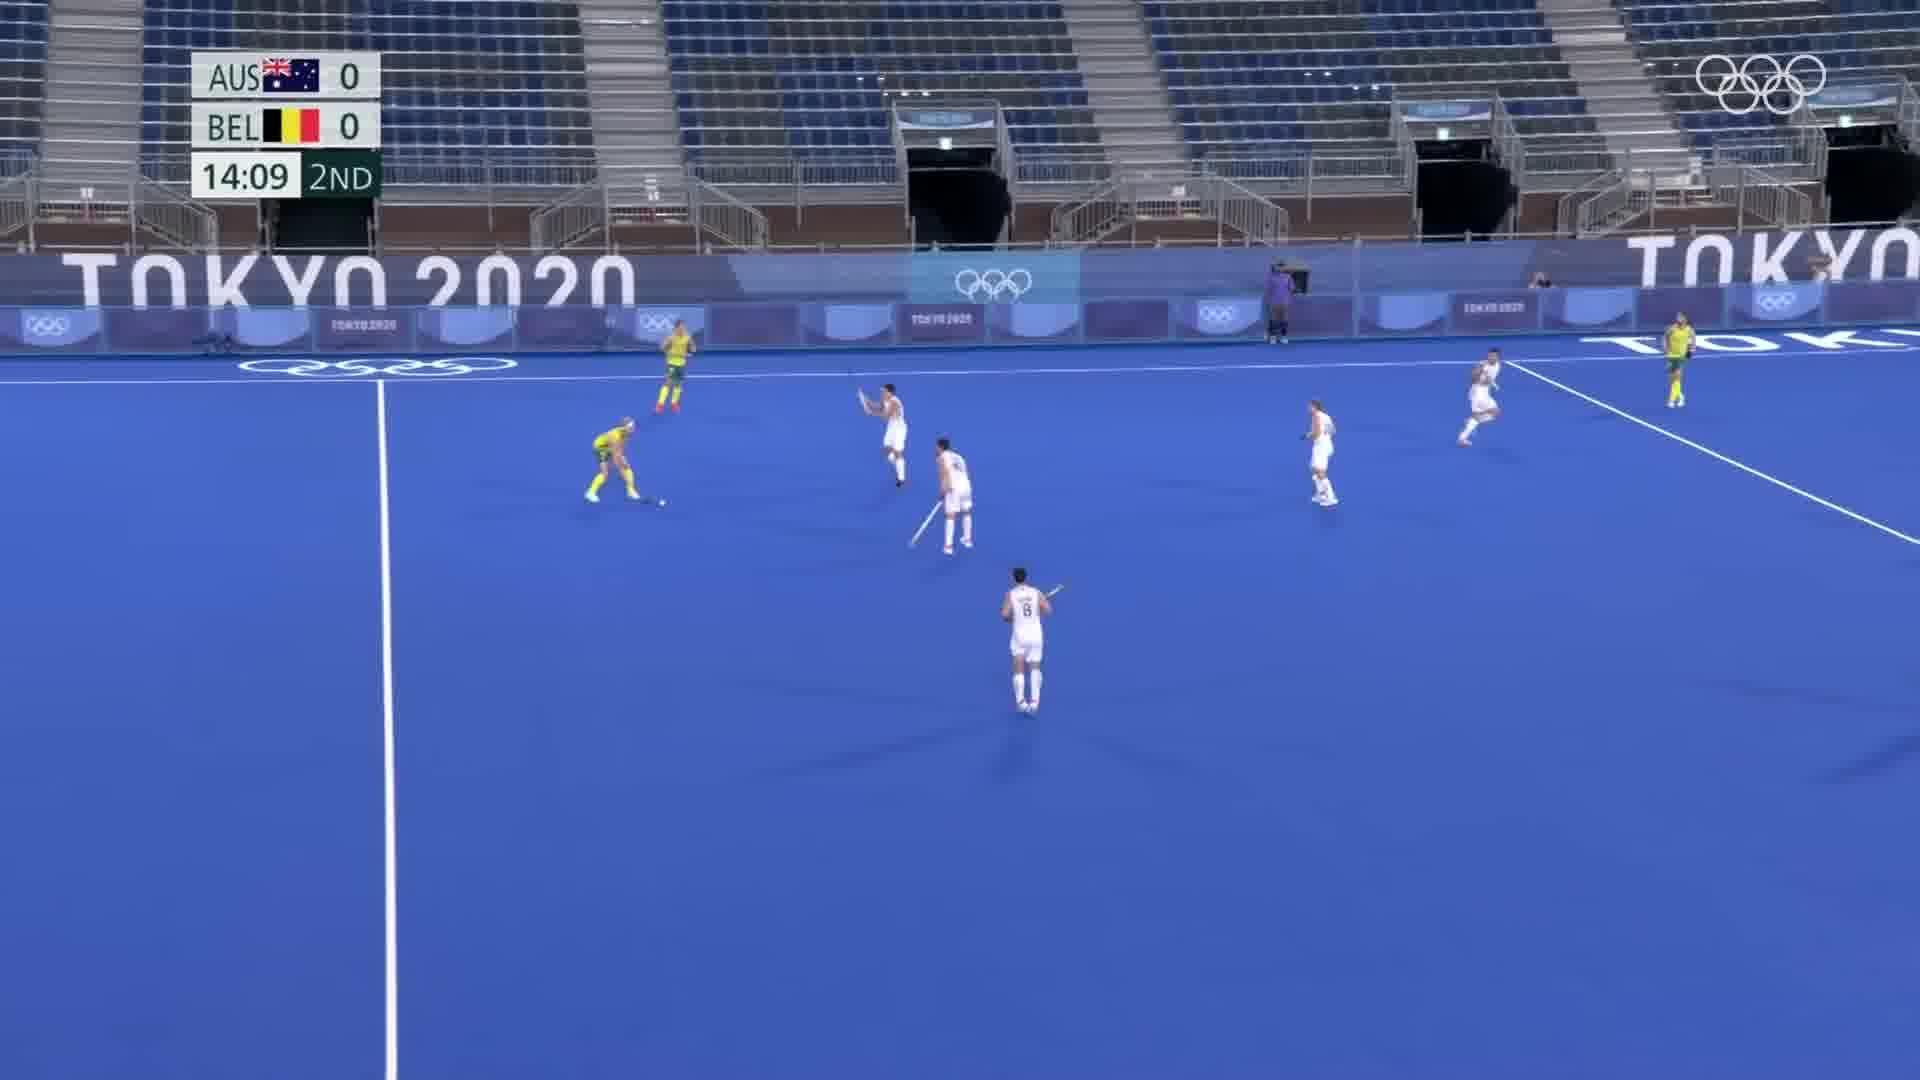ball: (657, 495, 670, 512)
